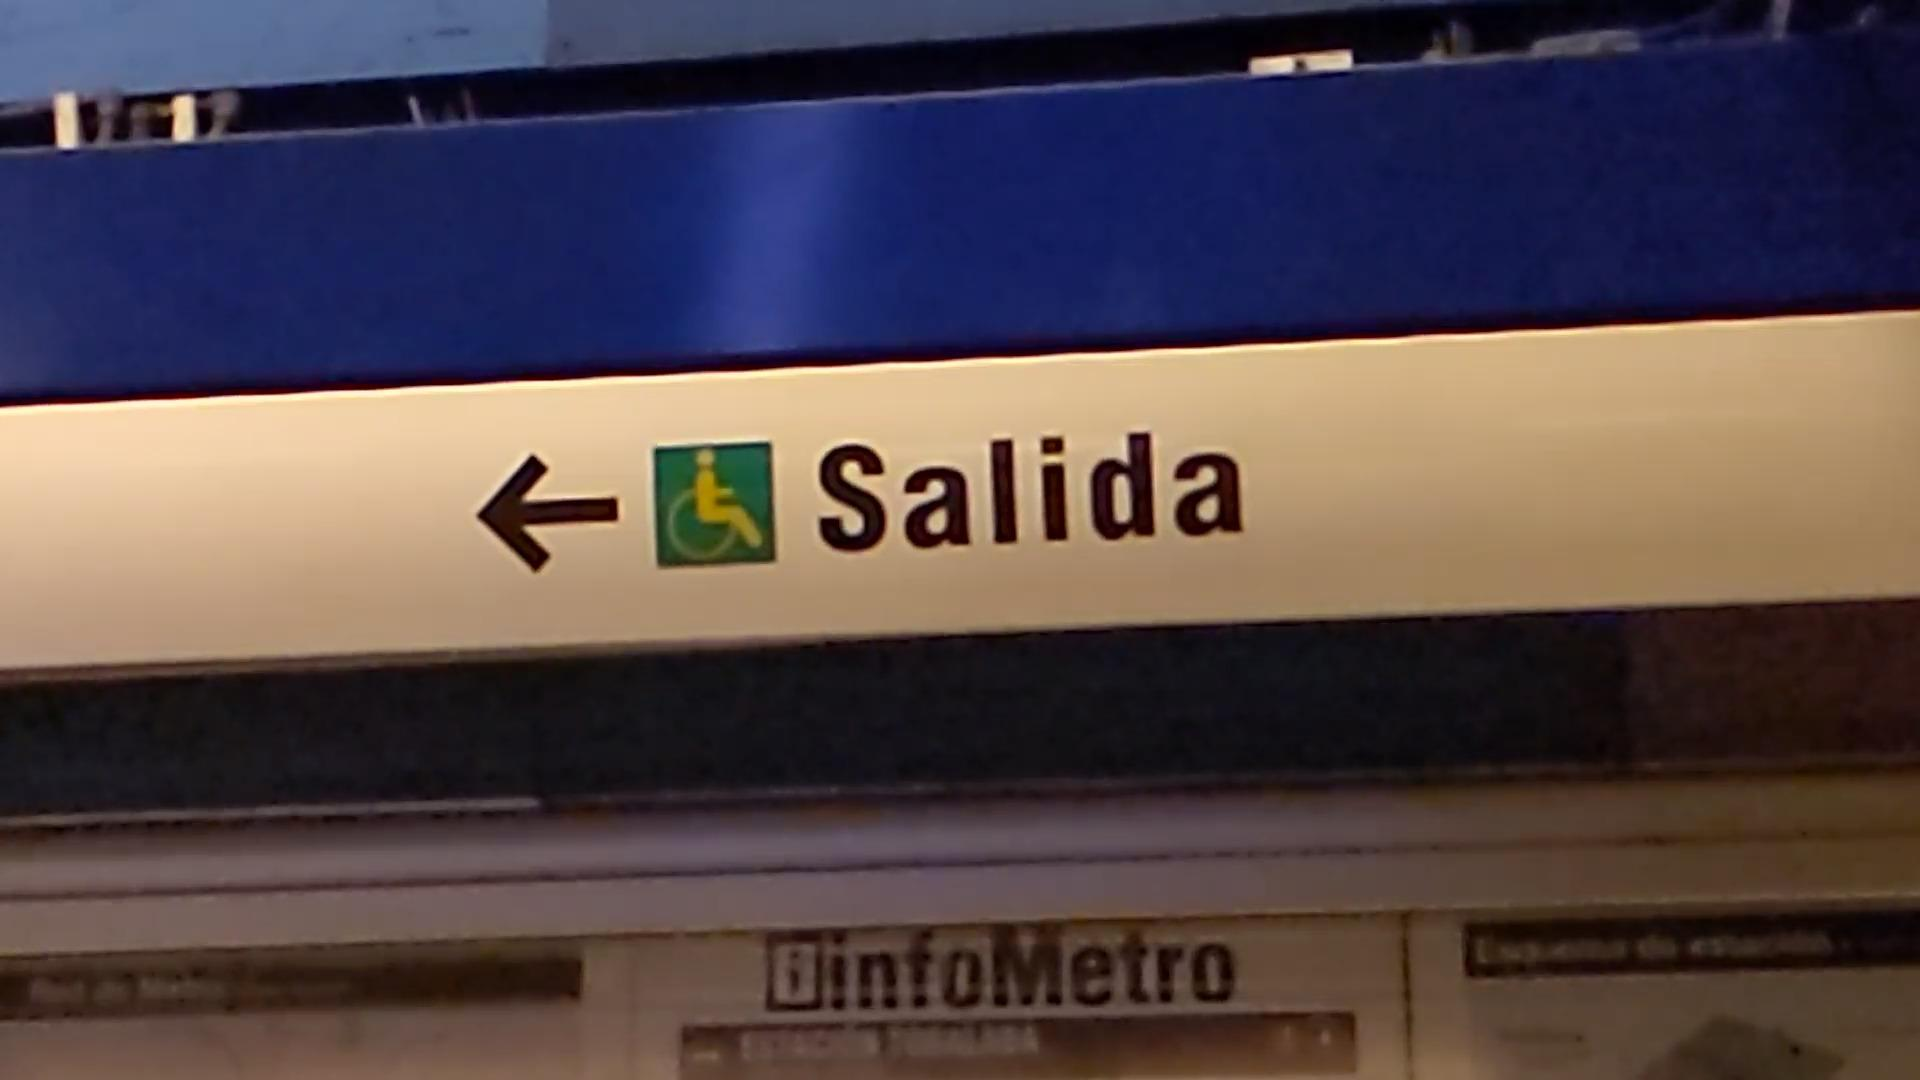handicapped symbol: (663, 448, 767, 564)
left arrow: (472, 448, 628, 575)
